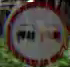No overtake: (5, 0, 67, 66)
